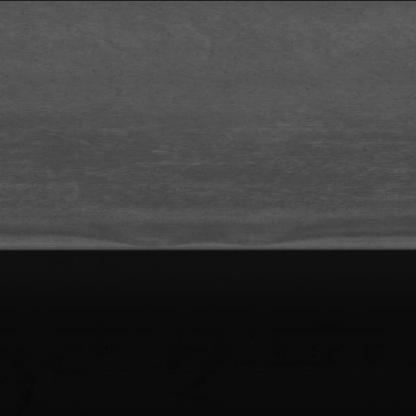silk_spot: (147, 101, 318, 185)
